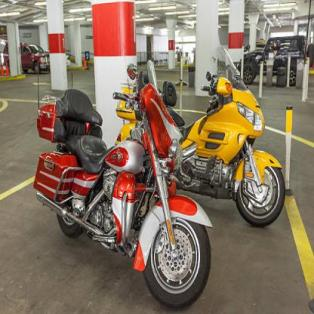Motocicleta: (30, 69, 214, 310), (177, 50, 286, 232)
